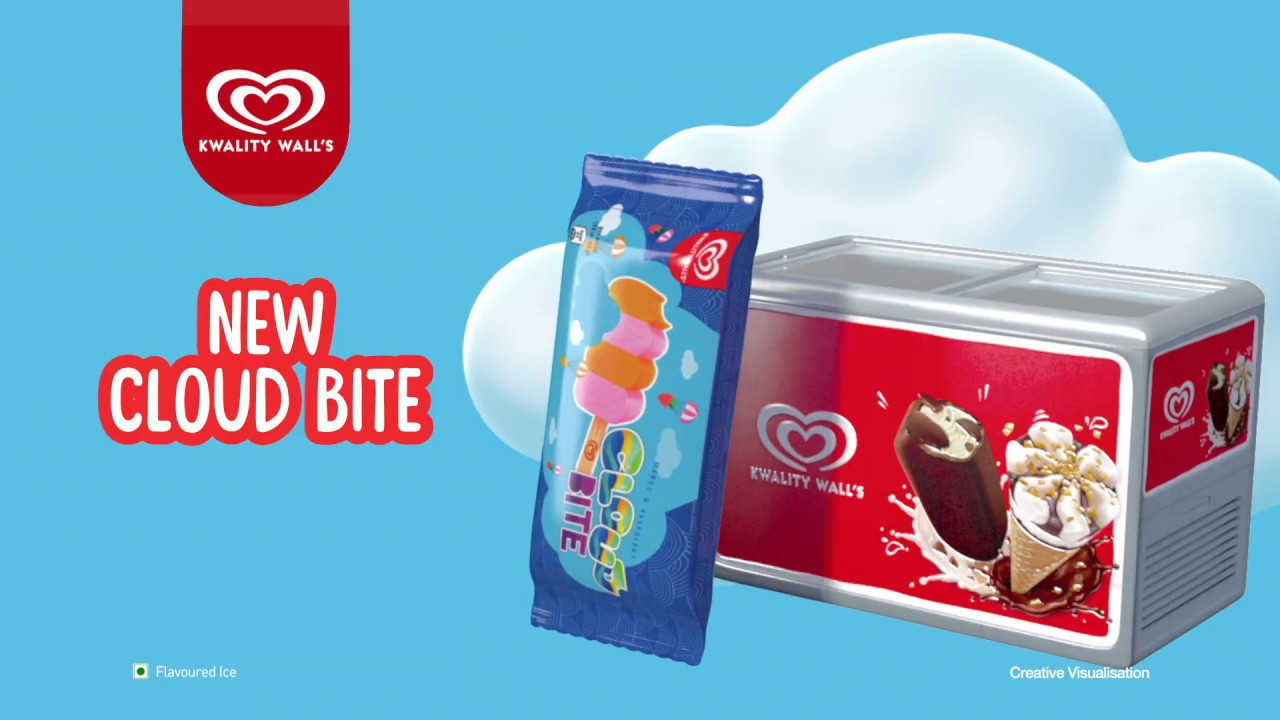Kwality_Walls: (189, 59, 336, 138), (743, 391, 867, 484), (1145, 372, 1215, 431), (689, 236, 734, 302)
